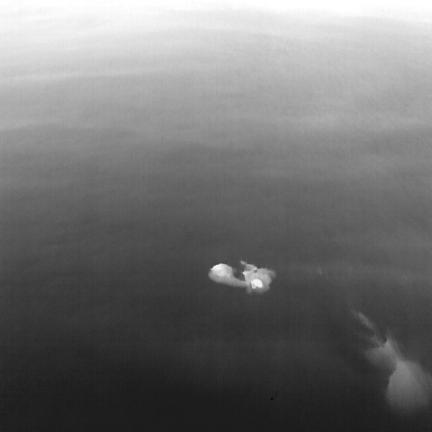flukeprints: (209, 261, 275, 293)
